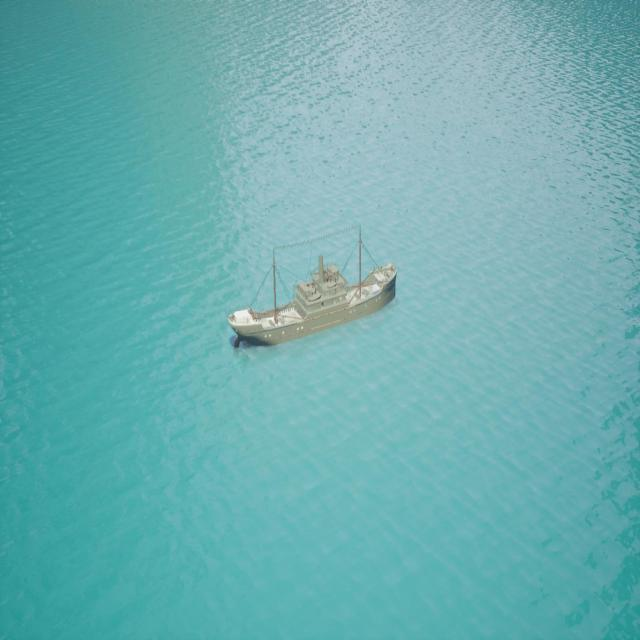fishing ship: (230, 246, 397, 352)
